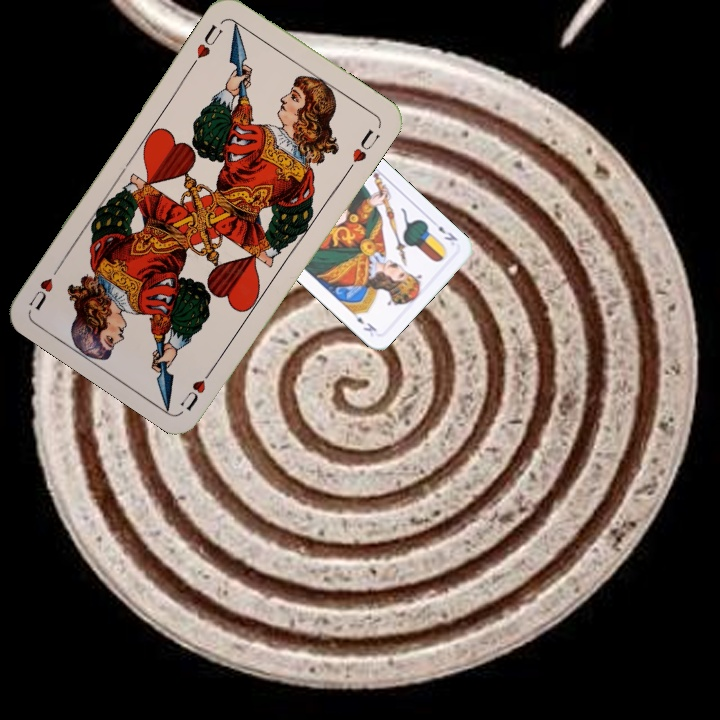EK: (434, 222, 460, 244)
HU: (176, 361, 218, 413), (187, 20, 226, 69)
